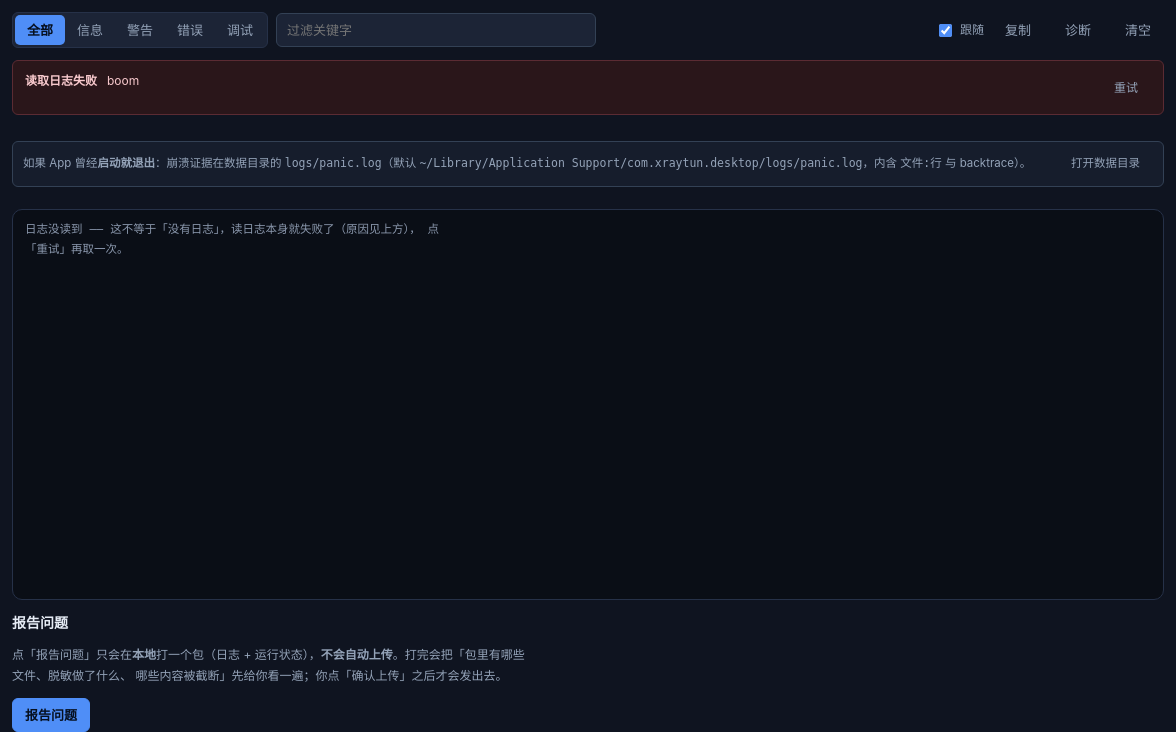
Test: 日志页：读取失败不许说成「没有日志」（task-23 A） › 「重试」真的再取一次，成功后横幅消失并换成当前状态的文案
Expected: the message "读取日志失败 boom 重试" is shown, [12, 60, 1164, 115]
Click the button "重试": (1126, 88) [1101, 71, 1151, 104]
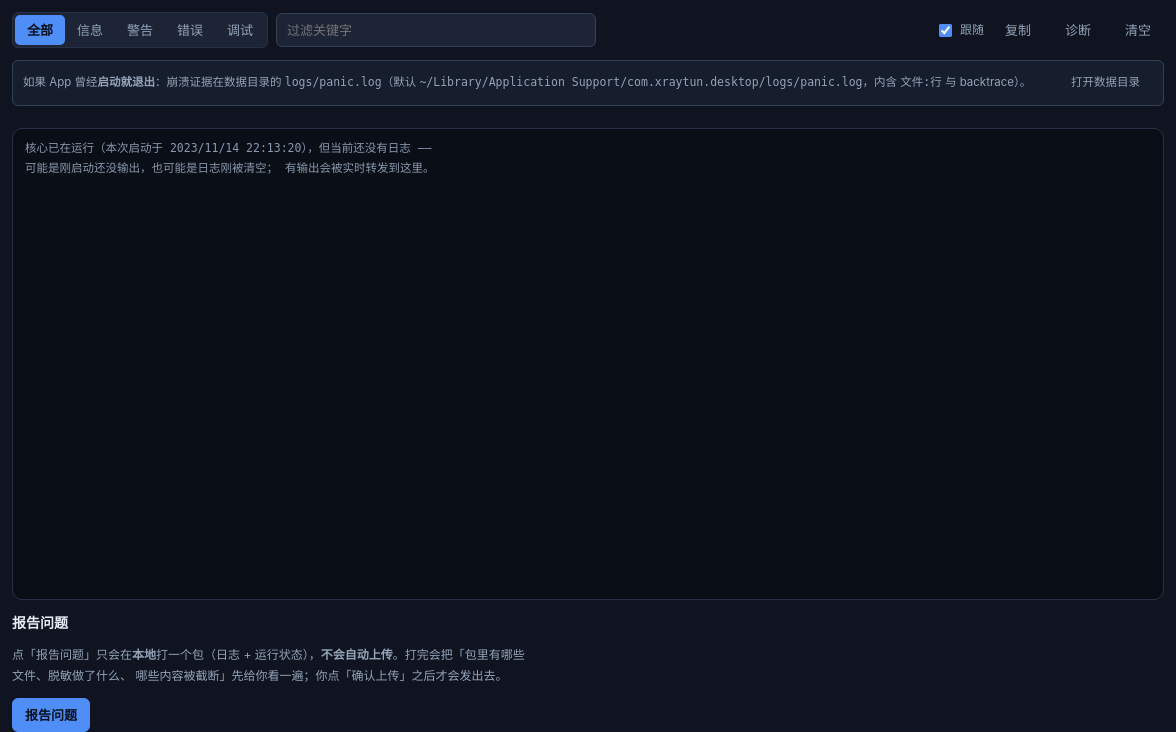
Result: the message "读取日志失败 boom 重试" is gone
Result: the text "但当前还没有日志" is shown at [25, 141, 434, 174]
